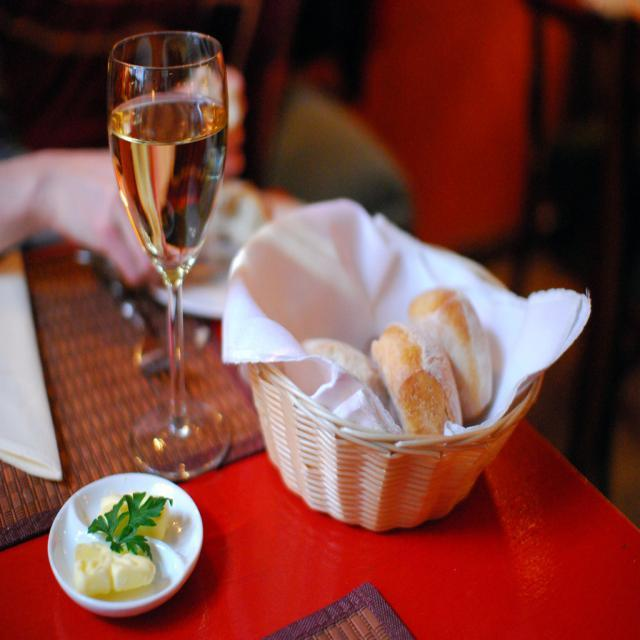Bread: (406, 286, 494, 428), (370, 324, 464, 432), (298, 340, 386, 412)
